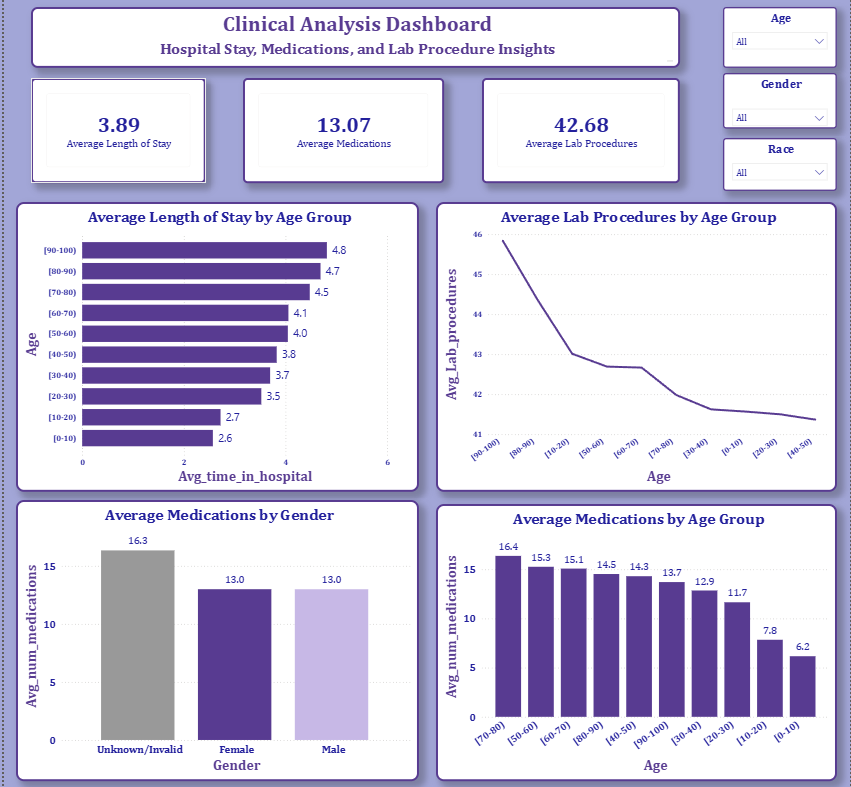

What the dashboard file says about the page in this screenshot:
{"tool":"powerbi","page":{"name":"Clinical Analysis","canvas":[1280,1200],"ordinal":1},"visuals":[{"type":"textbox","title":"Clinical Analysis Dashboard","box":[40.8,19.6,980.9,92.2],"z":0},{"type":"cardVisual","fields":{"Data":["gold readmission_summary.Avg Length of Stay"]},"box":[40.8,127,264.5,158.7],"z":1000},{"type":"cardVisual","fields":{"Data":["gold readmission_summary.Avg Medications"]},"box":[361.2,127,303.8,158.7],"z":2000},{"type":"cardVisual","fields":{"Data":["gold readmission_summary.Avg Lab Procedures"]},"box":[722.4,127,299.2,158.7],"z":3000},{"type":"clusteredBarChart","title":"Average Length of Stay by Age Group","fields":{"Y":["Avg(gold readmission_summary.avg_time_in_hospital)"],"Category":["gold readmission_summary.age"]},"box":[18.1,314.4,609.1,438.3],"z":4000},{"type":"clusteredColumnChart","title":"Average Medications by Age Group","fields":{"Category":["gold readmission_summary.age"],"Y":["Avg(gold readmission_summary.avg_num_medications)"]},"box":[652.9,770.8,606,418.6],"z":5000},{"type":"lineChart","title":"Average Lab Procedures by Age Group","fields":{"Category":["gold readmission_summary.age"],"Y":["Avg(gold readmission_summary.avg_lab_procedures)"]},"box":[652.9,314.4,606,438.3],"z":6000},{"type":"clusteredColumnChart","title":"Average Medications by Gender","fields":{"Category":["gold readmission_summary.gender"],"Y":["Avg(gold readmission_summary.avg_num_medications)"]},"box":[18.1,764.7,609.1,424.7],"z":7000},{"type":"slicer","title":"Age","fields":{"Values":["gold readmission_summary.age"]},"box":[1087.2,19.6,171.9,91.7],"z":8000},{"type":"slicer","title":"Gender","fields":{"Values":["gold readmission_summary.gender"]},"box":[1087.2,119.5,171.9,83.5],"z":9000},{"type":"slicer","title":"Race","fields":{"Values":["gold readmission_summary.race"]},"box":[1086.6,217.6,172.3,80.1],"z":10000}]}

Visuals, with their boxes in screenshot pixels (x1, y1, x2, y2), scaled from the page's 1280x1200 canvas onto the 851x787 screenshot:
"Clinical Analysis Dashboard" textbox: region(27, 13, 679, 73)
cardVisual - gold readmission_summary.Avg Length of Stay: region(27, 83, 203, 187)
cardVisual - gold readmission_summary.Avg Medications: region(240, 83, 442, 187)
cardVisual - gold readmission_summary.Avg Lab Procedures: region(480, 83, 679, 187)
"Average Length of Stay by Age Group" clusteredBarChart: region(12, 206, 417, 494)
"Average Medications by Age Group" clusteredColumnChart: region(434, 506, 837, 780)
"Average Lab Procedures by Age Group" lineChart: region(434, 206, 837, 494)
"Average Medications by Gender" clusteredColumnChart: region(12, 502, 417, 780)
"Age" slicer: region(723, 13, 837, 73)
"Gender" slicer: region(723, 78, 837, 133)
"Race" slicer: region(722, 143, 837, 195)
